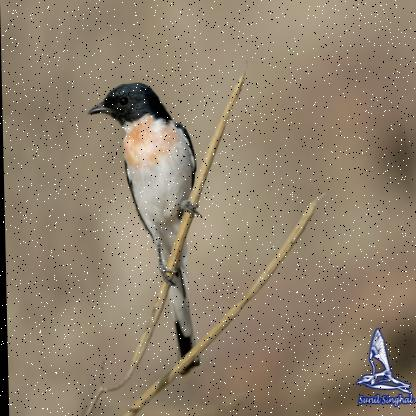Burung: (86, 82, 199, 373)
